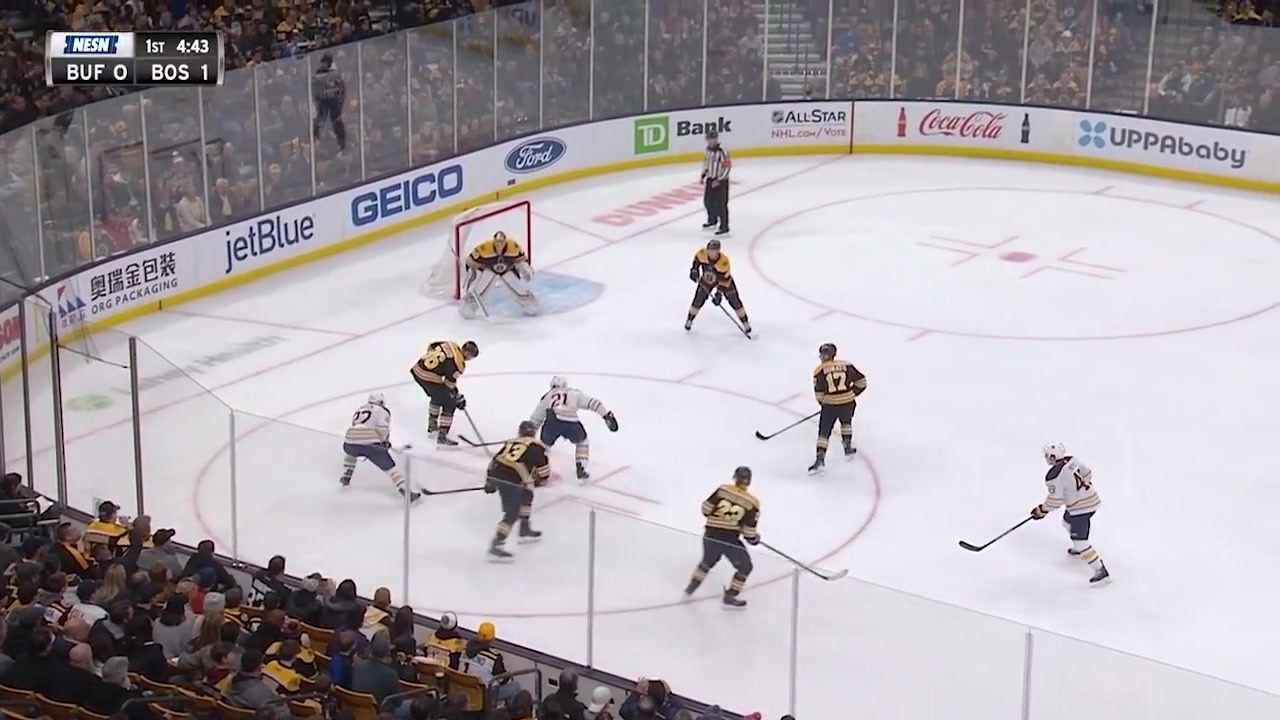geico: (343, 155, 481, 234)
